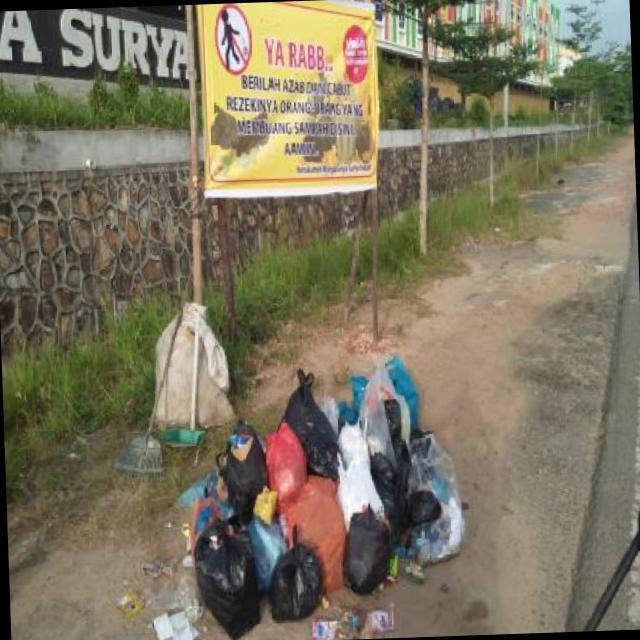Garbage_Bag: (190, 514, 262, 640), (266, 524, 324, 627), (340, 506, 398, 596)
